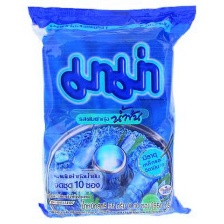snack: (18, 0, 202, 224)
